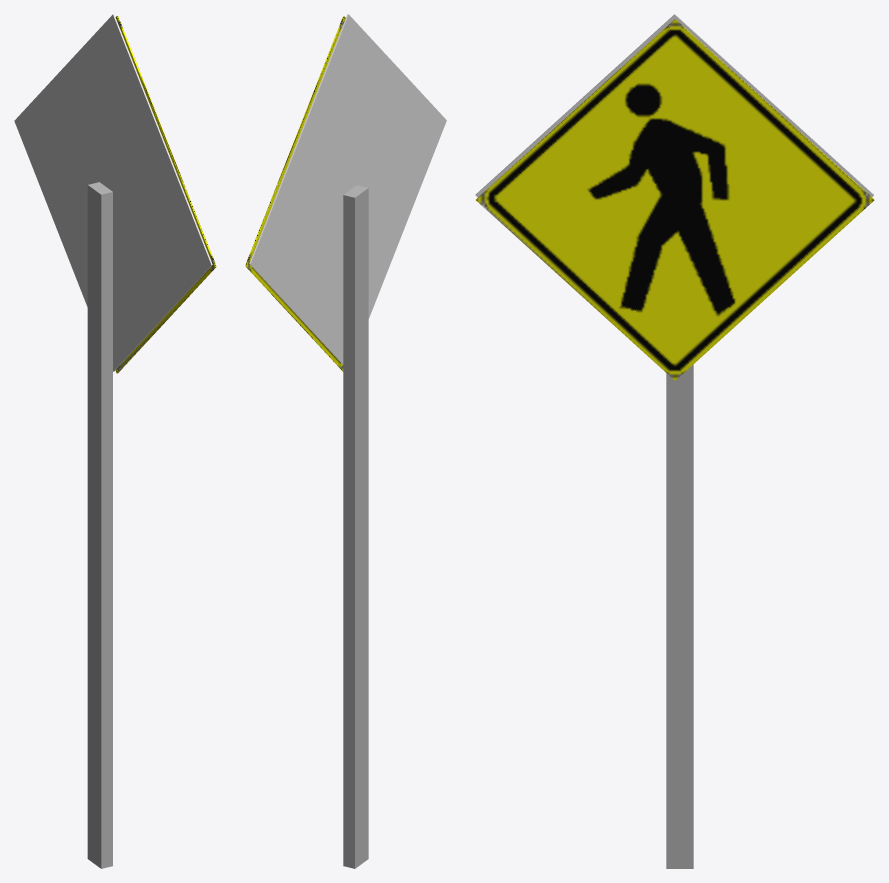
File: pedestrain_walk.dae
The picture shows the model from 3 angles, left to right: view 1: azimuth 30°, elevation 25°; view 2: azimuth 150°, elevation 25°; view 3: azimuth 270°, elevation 25°; orthographic projection.
Parts seen in each view (by area): view 1: Cube_002, Cube_001, Cube; view 2: Cube_002, Cube_001, Cube; view 3: Cube, Cube_001, Cube_002.
Boxes of the visible parts, left/top/right/bottom form: Cube_002: left=14, top=14, right=212, bottom=371; Cube_001: left=87, top=182, right=112, bottom=868; Cube: left=115, top=16, right=216, bottom=373; Cube_002: left=249, top=14, right=446, bottom=364; Cube_001: left=343, top=185, right=368, bottom=868; Cube: left=245, top=16, right=345, bottom=371; Cube: left=476, top=19, right=874, bottom=380; Cube_001: left=666, top=364, right=693, bottom=868; Cube_002: left=475, top=14, right=873, bottom=197.
Size of the model in its own units: 0.0799 by 1.29 by 3.07.
